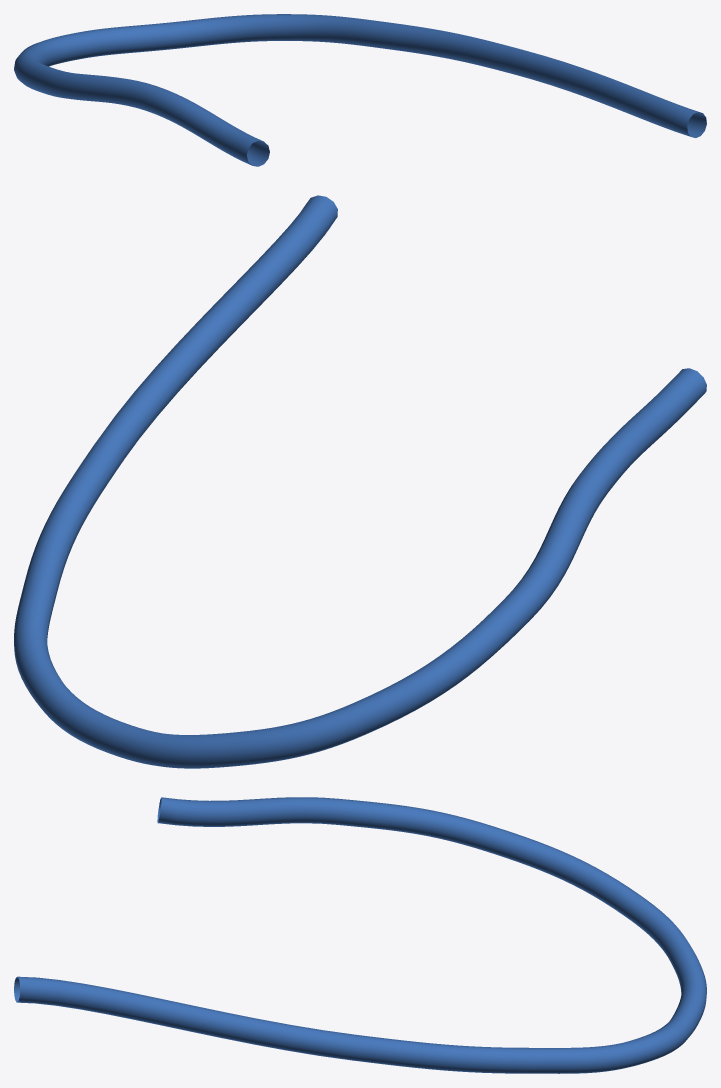
3 renders of one model, top to bottom at view 1: azimuth 30°, elevation 25°; view 2: azimuth 150°, elevation 25°; view 3: azimuth 270°, elevation 25°, orthographic. The views are drawn at different scales.
Visible parts, largest first — view 1: 右侧手背静脉网; view 2: 右侧手背静脉网; view 3: 右侧手背静脉网.
Boxes of the visible parts, x1,y1,x2,y2 form: 右侧手背静脉网: (14, 14, 706, 166); 右侧手背静脉网: (14, 195, 706, 768); 右侧手背静脉网: (14, 797, 706, 1073).
Size of the model in its own units: 0.0719 by 0.0244 by 0.1054.
